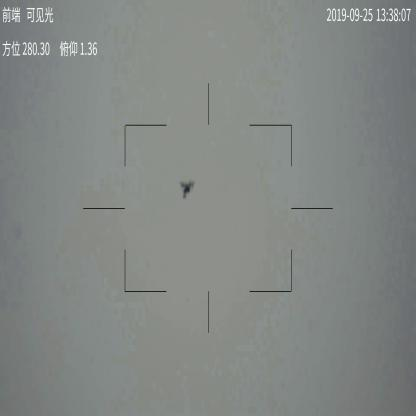uav: (180, 178, 195, 201)
